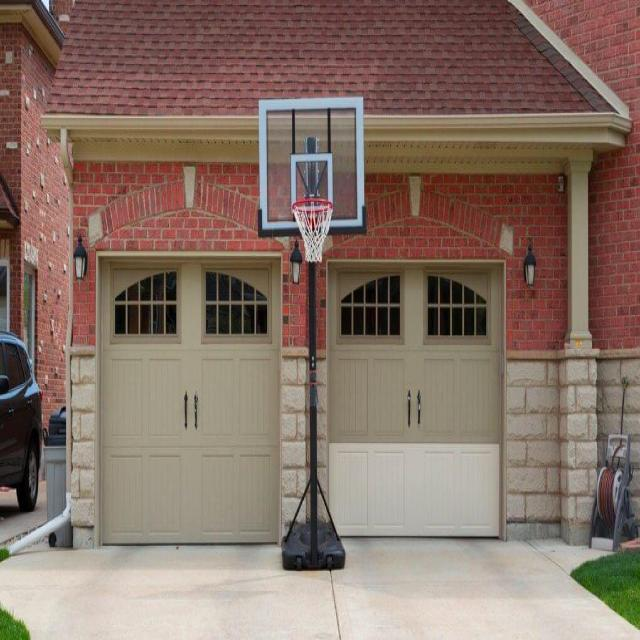hoop: (292, 198, 334, 263)
